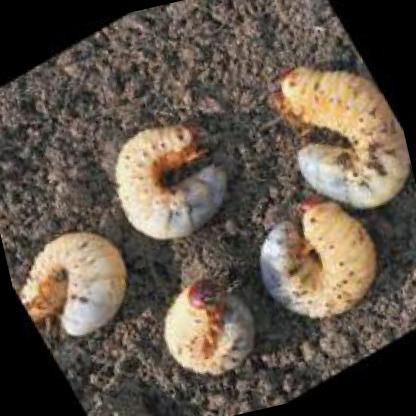root grubs: (275, 67, 408, 209), (254, 193, 376, 321), (113, 125, 225, 235), (15, 231, 127, 334), (166, 282, 255, 377)
